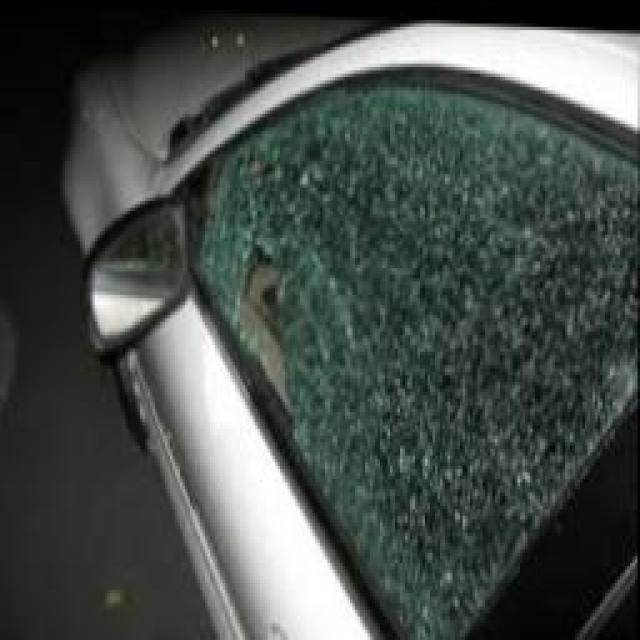Door: (151, 90, 629, 640)
